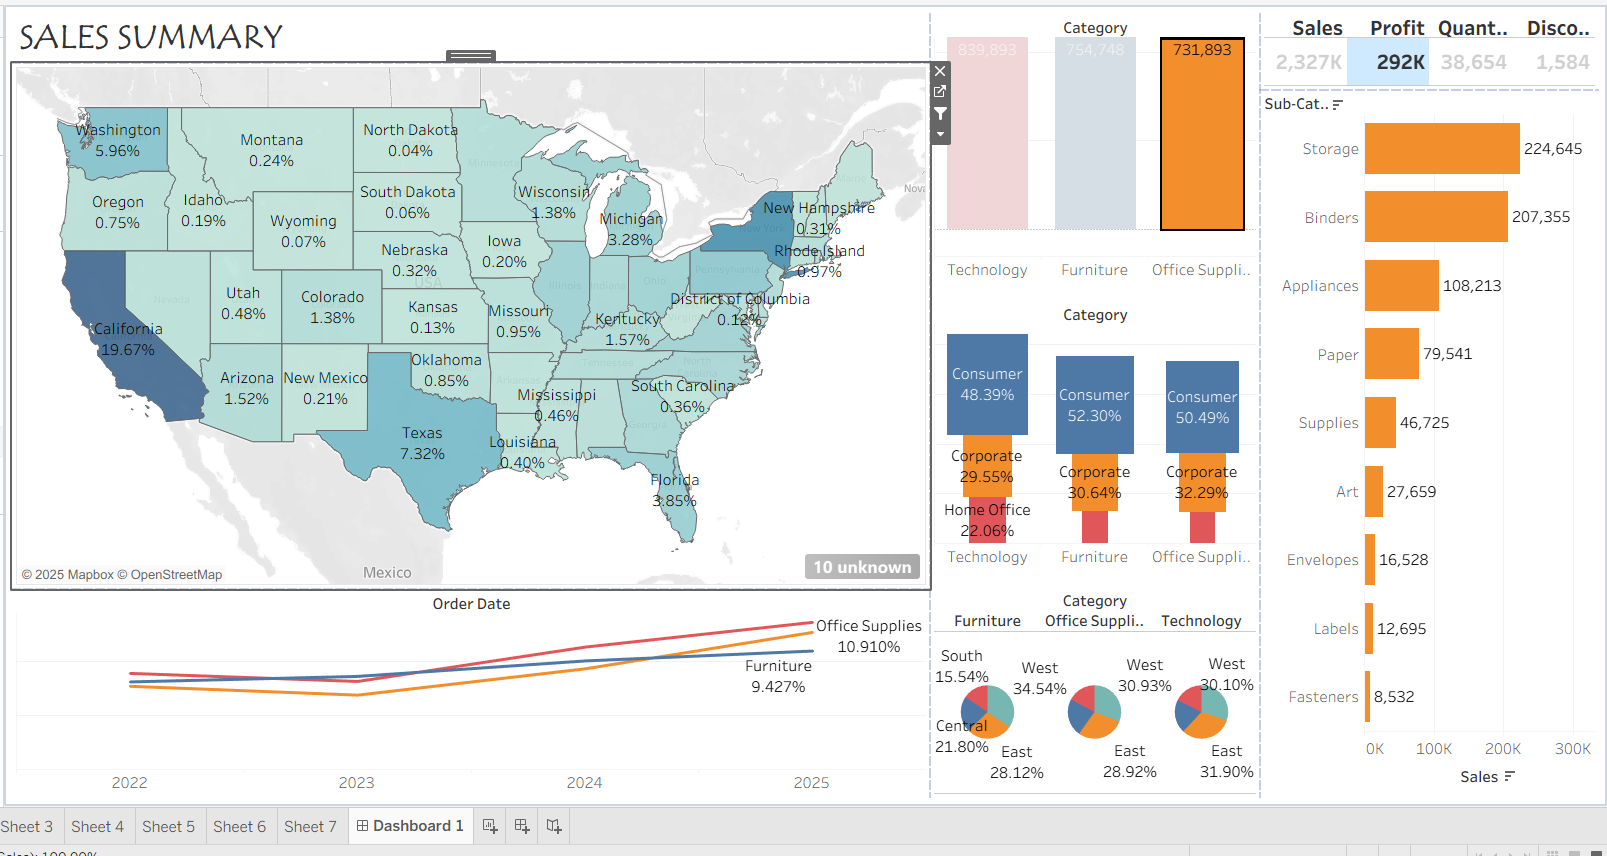

The dashboard page shown, as its layout file describes it:
{"tool":"tableau","page":{"name":"Dashboard 1","canvas":[1000,1000],"units":"permille","ordinal":0},"visuals":[{"type":"title","box":[5,10,572.6,62.4]},{"type":"worksheet","title":"Sheet 1","mark":"Automatic","rows":["Sales"],"cols":["Category"],"box":[577.6,10,206.2,358.3]},{"type":"worksheet","title":"Sheet 7","mark":"Automatic","box":[783.8,10,211.2,96.1]},{"type":"worksheet","title":"Sheet 6","mark":"Automatic","box":[5,72.4,572.6,656.7]},{"type":"worksheet","title":"Sheet 2","mark":"Automatic","rows":["Sub-Category"],"cols":["Sales"],"box":[783.8,106.1,211.2,883.9]},{"type":"worksheet","title":"Sheet 5","mark":"Automatic","rows":["Sales"],"cols":["Category"],"box":[577.6,368.3,206.2,358.4]},{"type":"worksheet","title":"Sheet 3","mark":"Pie","cols":["Category"],"box":[577.6,726.7,206.2,263.4]},{"type":"worksheet","title":"Sheet 4","mark":"Automatic","rows":["Sales"],"cols":["Order Date"],"box":[5,729,572.6,261]}]}

Visuals, with their boxes on the dashboard's canvas, which has no fixed pixel size, in thousandths of its width and height (x1, y1, x2, y2). These are canvas units, not pixel positions in the 1607x856 screenshot, which may show the page scaled, cropped or inside an application window:
title: left=5, top=10, right=578, bottom=72
"Sheet 1" worksheet: left=578, top=10, right=784, bottom=368
"Sheet 7" worksheet: left=784, top=10, right=995, bottom=106
"Sheet 6" worksheet: left=5, top=72, right=578, bottom=729
"Sheet 2" worksheet: left=784, top=106, right=995, bottom=990
"Sheet 5" worksheet: left=578, top=368, right=784, bottom=727
"Sheet 3" worksheet (Pie marks): left=578, top=727, right=784, bottom=990
"Sheet 4" worksheet: left=5, top=729, right=578, bottom=990
